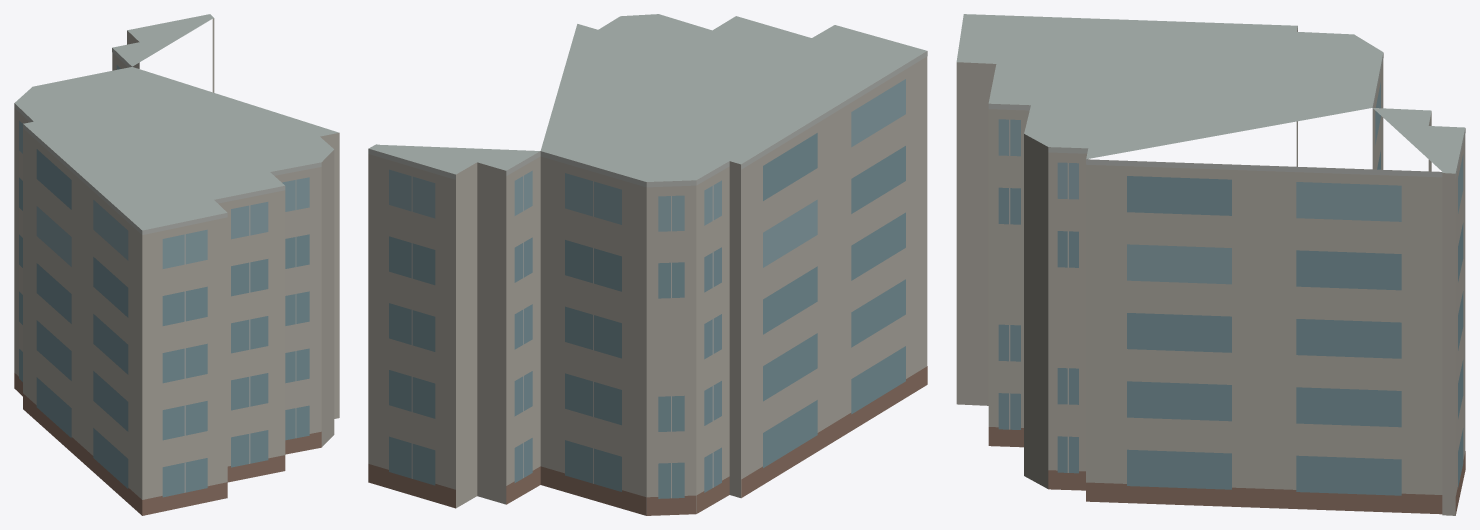
File: survey-upis-32979358.glb
3 views of the same model, side by side, from view 1: azimuth 30°, elevation 25°; view 2: azimuth 150°, elevation 25°; view 3: azimuth 270°, elevation 25° (orthographic). The views are drawn at different scales.
Visible parts, largest first — view 1: survey-upis-32979358.tmp; view 2: survey-upis-32979358.tmp; view 3: survey-upis-32979358.tmp.
Part boxes in pixels (x1,y1,x2,y2): survey-upis-32979358.tmp: (14,14,339,515); survey-upis-32979358.tmp: (368,14,927,515); survey-upis-32979358.tmp: (956,14,1465,515).
Size of the model in its own units: 15.26 by 15.25 by 20.56.
